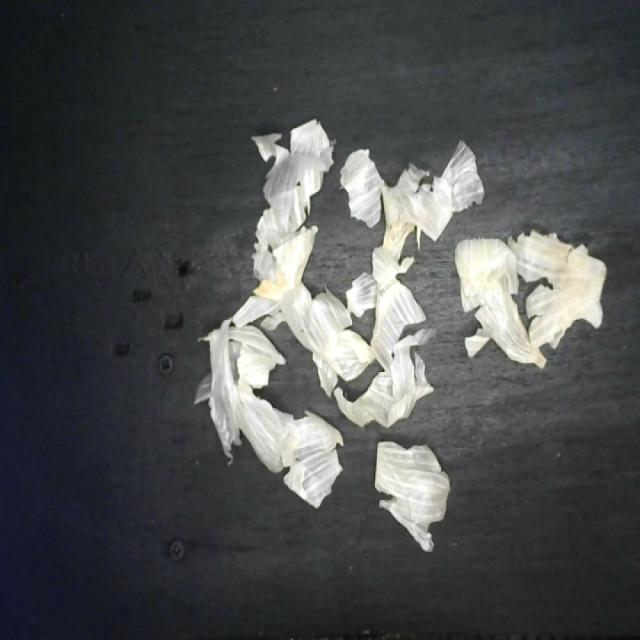biodegradable: (196, 120, 610, 550)
